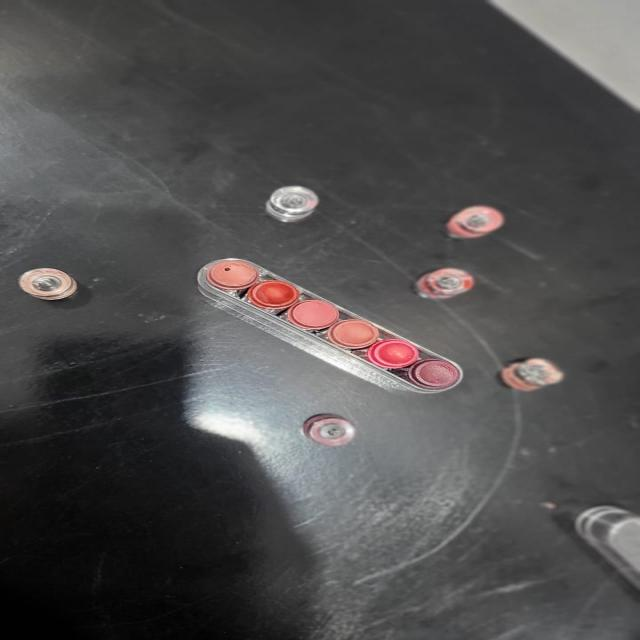lip stick: (162, 244, 496, 421)
